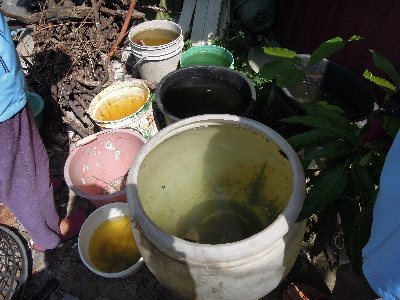bucket: (126, 113, 309, 299), (61, 129, 150, 207), (75, 202, 146, 278), (88, 79, 162, 143), (127, 18, 185, 89), (180, 44, 235, 71)
